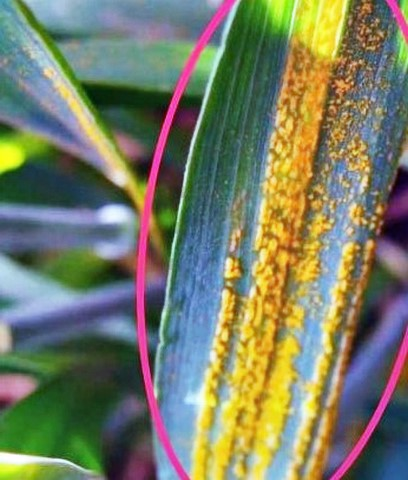Leaf Rust: (194, 37, 390, 391)
